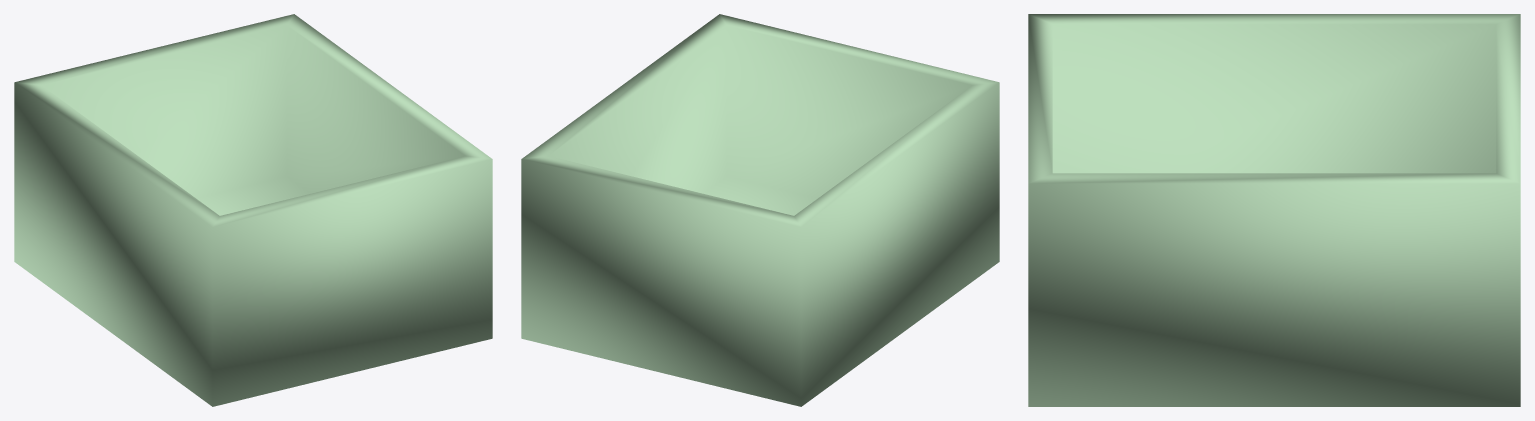
The model's file is CollectionBox.fbx.
3 views of the same model, side by side, from view 1: azimuth 30°, elevation 25°; view 2: azimuth 150°, elevation 25°; view 3: azimuth 270°, elevation 25° (orthographic). The views are drawn at different scales.
Parts seen in each view (by area): view 1: CollectingBox:Box001; view 2: CollectingBox:Box001; view 3: CollectingBox:Box001.
Part boxes in pixels (<box>): CollectingBox:Box001: <box>14,14,492,406</box>; CollectingBox:Box001: <box>521,14,999,406</box>; CollectingBox:Box001: <box>1028,14,1520,406</box>.
Bounding box in the file's own units: 16.31 × 10 × 20.
